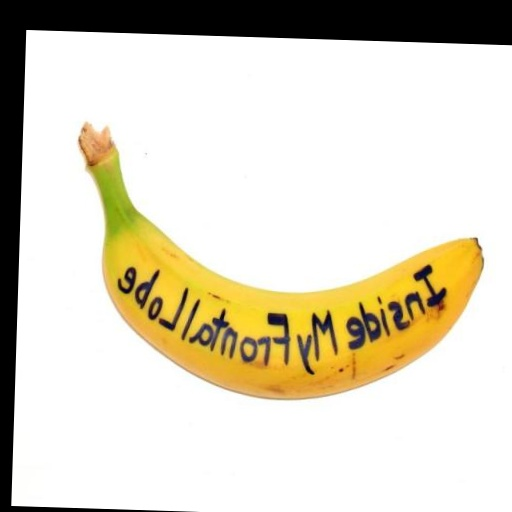fruit: (78, 124, 482, 398)
